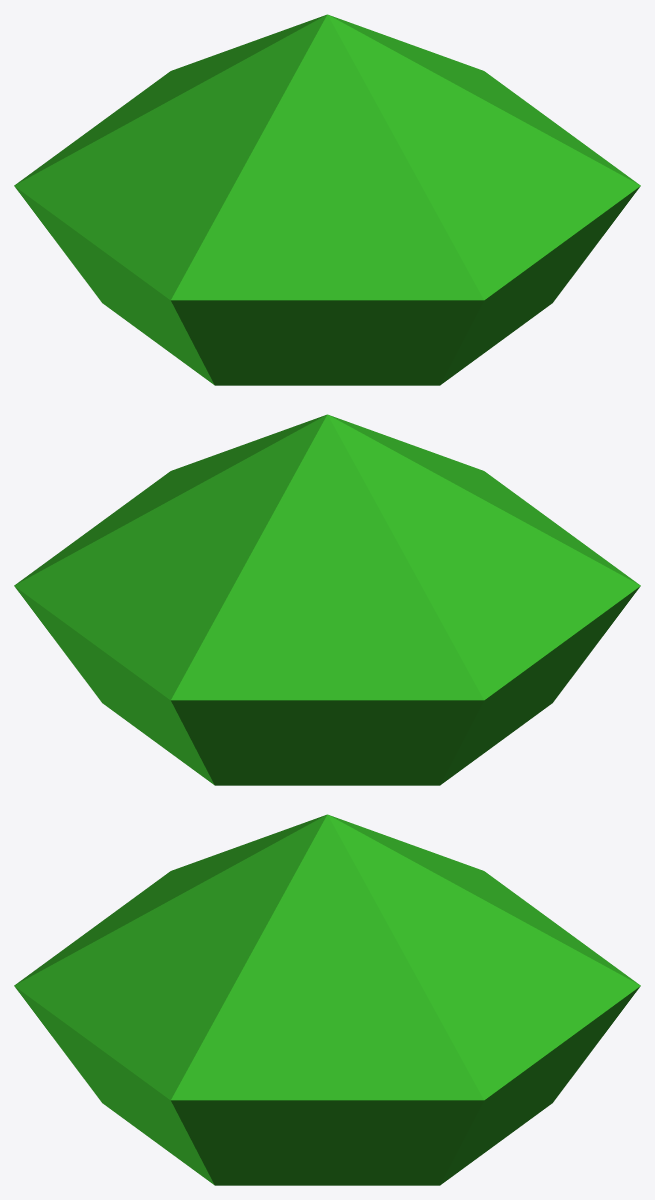
Rendered from JelloCrystal.fbx.
The picture shows the model from 3 angles, top to bottom: view 1: azimuth 30°, elevation 25°; view 2: azimuth 150°, elevation 25°; view 3: azimuth 270°, elevation 25°; orthographic projection.
Parts seen in each view (by area): view 1: Crystal; view 2: Crystal; view 3: Crystal.
Part boxes in pixels (bbox=[...]): Crystal: bbox=[14, 14, 640, 385]; Crystal: bbox=[14, 414, 640, 785]; Crystal: bbox=[14, 814, 640, 1185].
Size of the model in its own units: 109 by 63.72 by 125.
